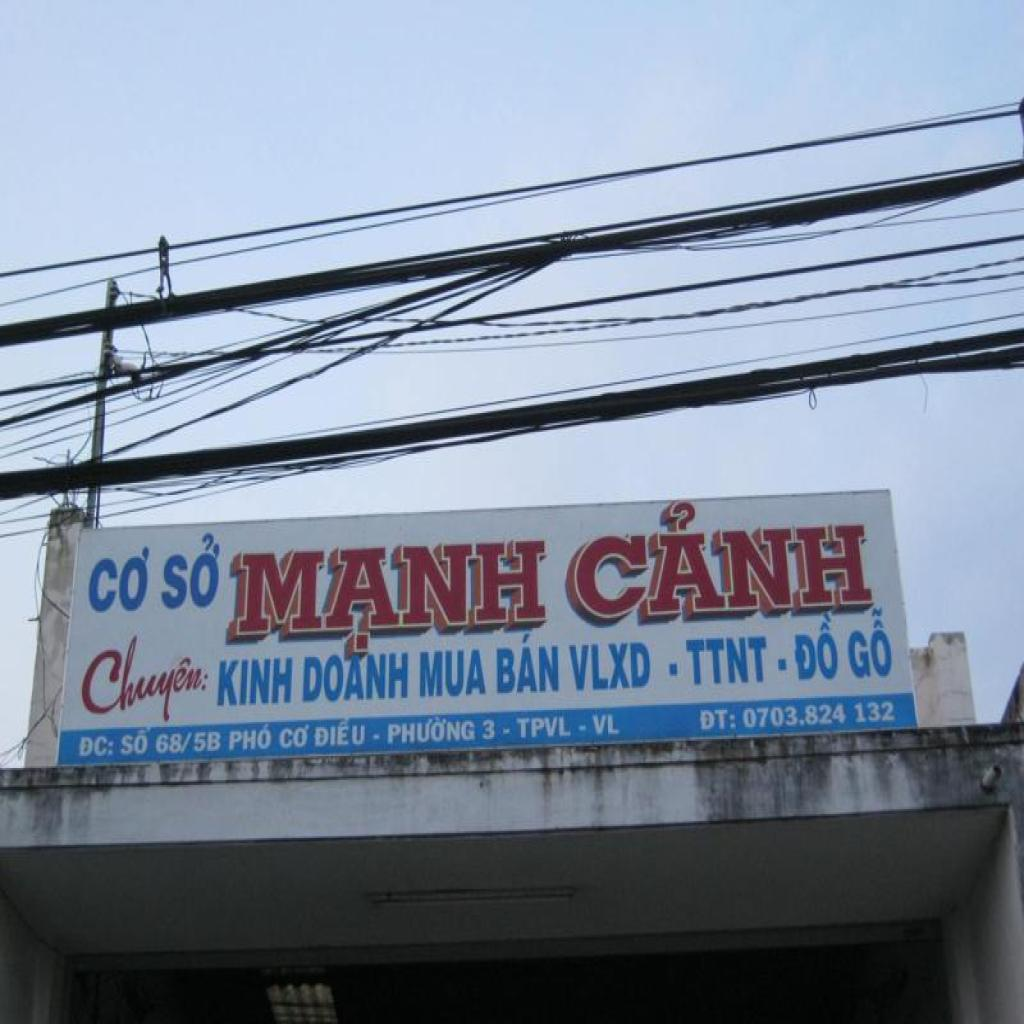text: (570, 493, 878, 633), (237, 534, 554, 657), (81, 620, 215, 732), (301, 649, 411, 708), (157, 529, 228, 614), (86, 543, 154, 618), (683, 633, 772, 690), (566, 638, 655, 695), (493, 628, 563, 698), (215, 654, 297, 713), (844, 603, 898, 686), (418, 647, 492, 703), (790, 611, 842, 686), (386, 714, 478, 750), (154, 729, 225, 759), (314, 717, 368, 751), (514, 712, 574, 742), (227, 722, 275, 756), (118, 724, 155, 760), (77, 731, 116, 761), (699, 706, 740, 734), (279, 722, 314, 753), (592, 712, 624, 739), (480, 715, 497, 744)
